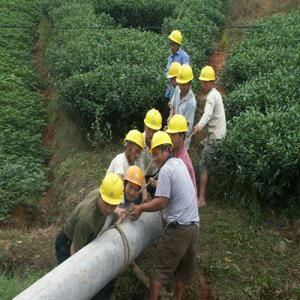yellow: (99, 173, 123, 219), (166, 113, 191, 150), (150, 132, 174, 165), (125, 166, 144, 204), (123, 131, 145, 161), (144, 108, 163, 140), (201, 66, 217, 94), (178, 65, 194, 92), (169, 30, 184, 53), (169, 63, 182, 87)
